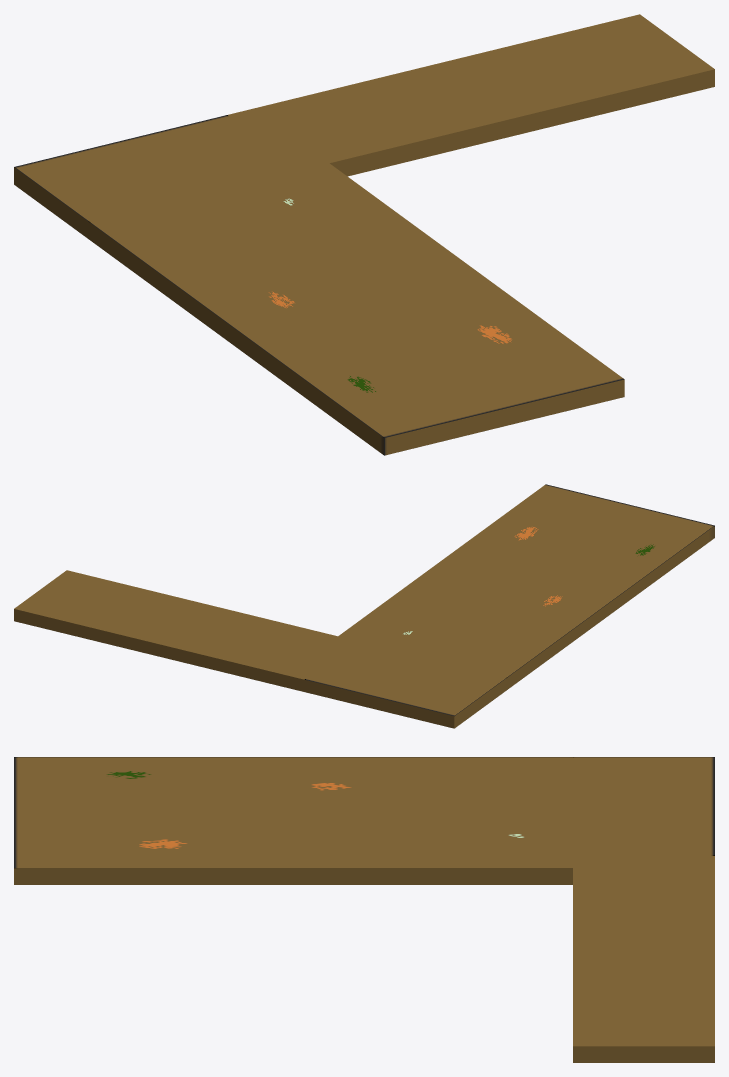
The model's file is Mesafbx.fbx.
3 views of the same model, one above another, from view 1: azimuth 30°, elevation 25°; view 2: azimuth 150°, elevation 25°; view 3: azimuth 270°, elevation 25° (orthographic). The views are drawn at different scales.
Parts seen in each view (by area): view 1: Madeira; view 2: Madeira; view 3: Madeira.
Part boxes in pixels (left/top/right/bottom): Madeira: left=14, top=14, right=714, bottom=455; Madeira: left=14, top=484, right=714, bottom=728; Madeira: left=14, top=757, right=714, bottom=1062.
Size of the model in its own units: 1077 by 29 by 1104.
